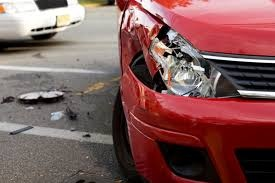Broken-glass: (152, 27, 212, 98)
Dent: (119, 10, 150, 77)
